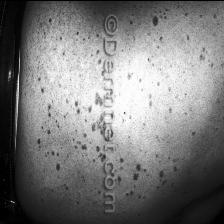Non-Cancerous Skin Condition: (46, 30, 96, 198), (132, 128, 200, 206), (149, 0, 179, 92)
